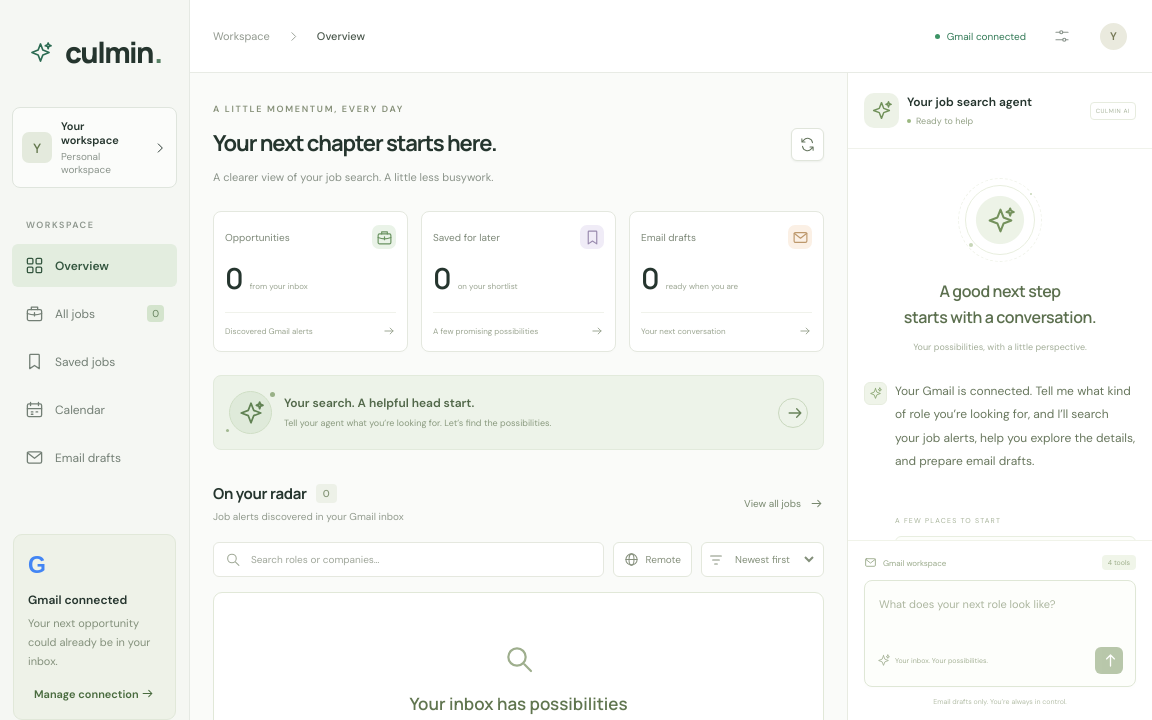
Test case: Culmin workspace › uses authenticated Gmail search without mixing in demo jobs
This screenshot has width=1152, height=720.
Click the button "Refresh jobs".
click(808, 144)  # box [791, 128, 824, 161]
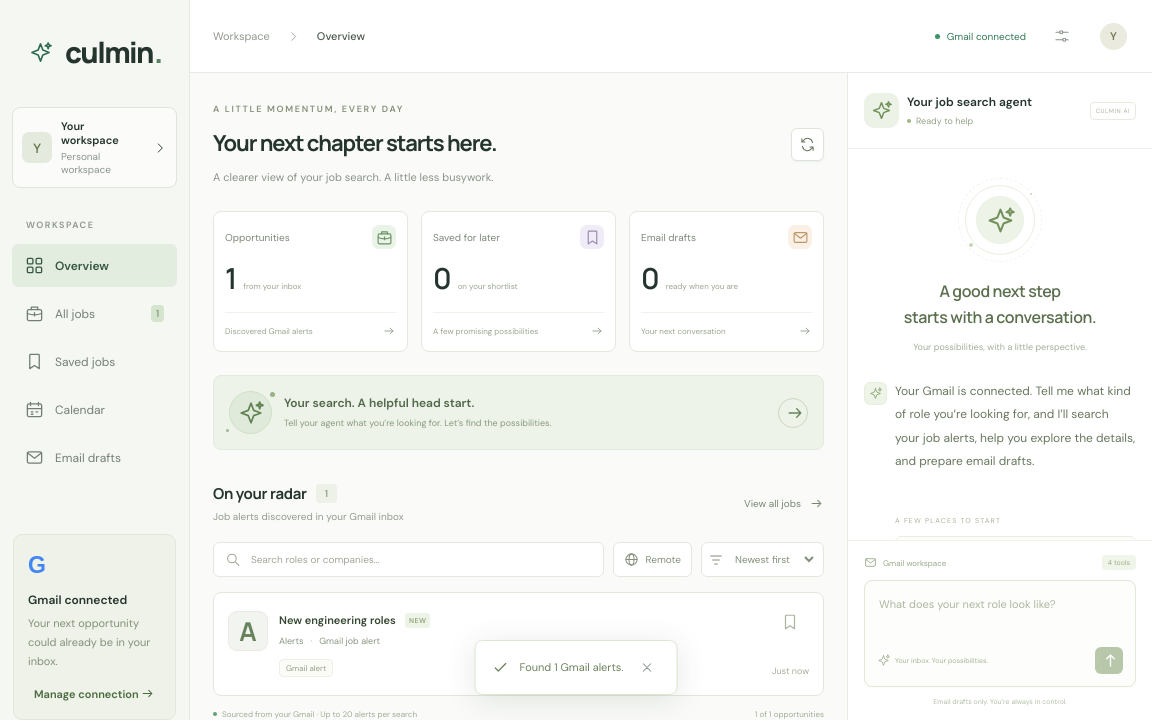
Expected: the button "New engineering roles" is shown, [279, 612, 396, 628]
